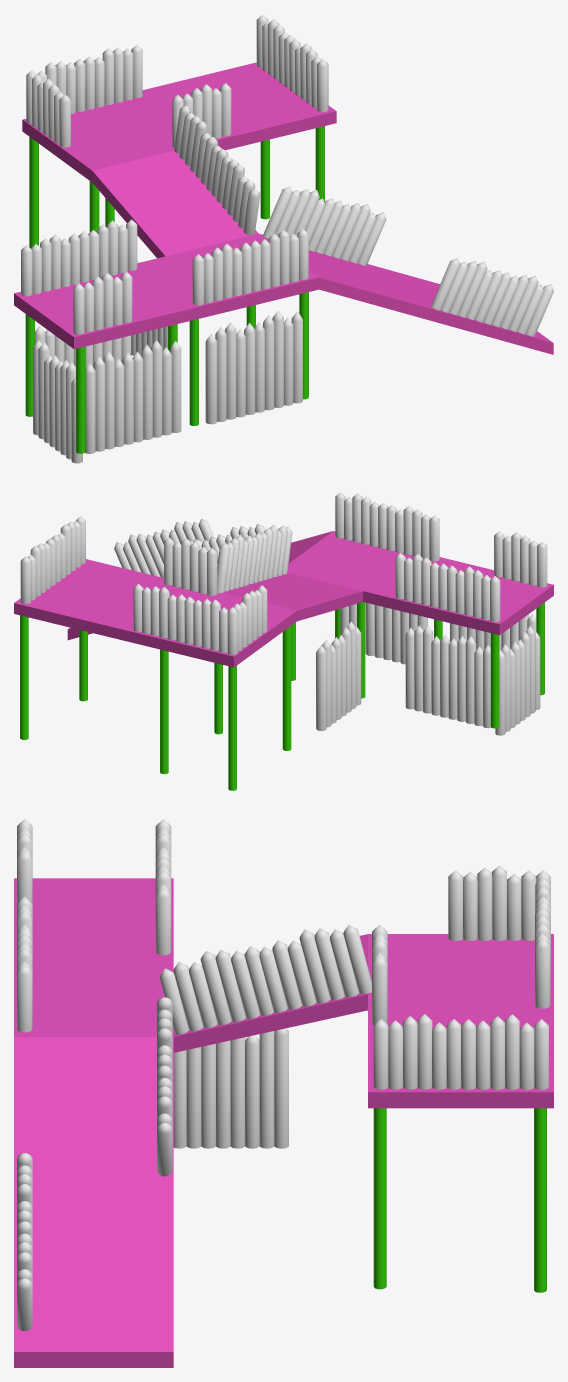
File: Plataforma 3.fbx
3 renders of one model, top to bottom at view 1: azimuth 30°, elevation 25°; view 2: azimuth 150°, elevation 25°; view 3: azimuth 270°, elevation 25°, orthographic. The views are drawn at different scales.
Visible parts, largest first — view 1: Plane.002; view 2: Plane.002; view 3: Plane.002.
Boxes of the visible parts, x1,y1,x2,y2 form: Plane.002: [14, 14, 553, 463]; Plane.002: [14, 492, 553, 790]; Plane.002: [14, 819, 553, 1367].
Size of the model in its own units: 1087 by 476 by 792.
